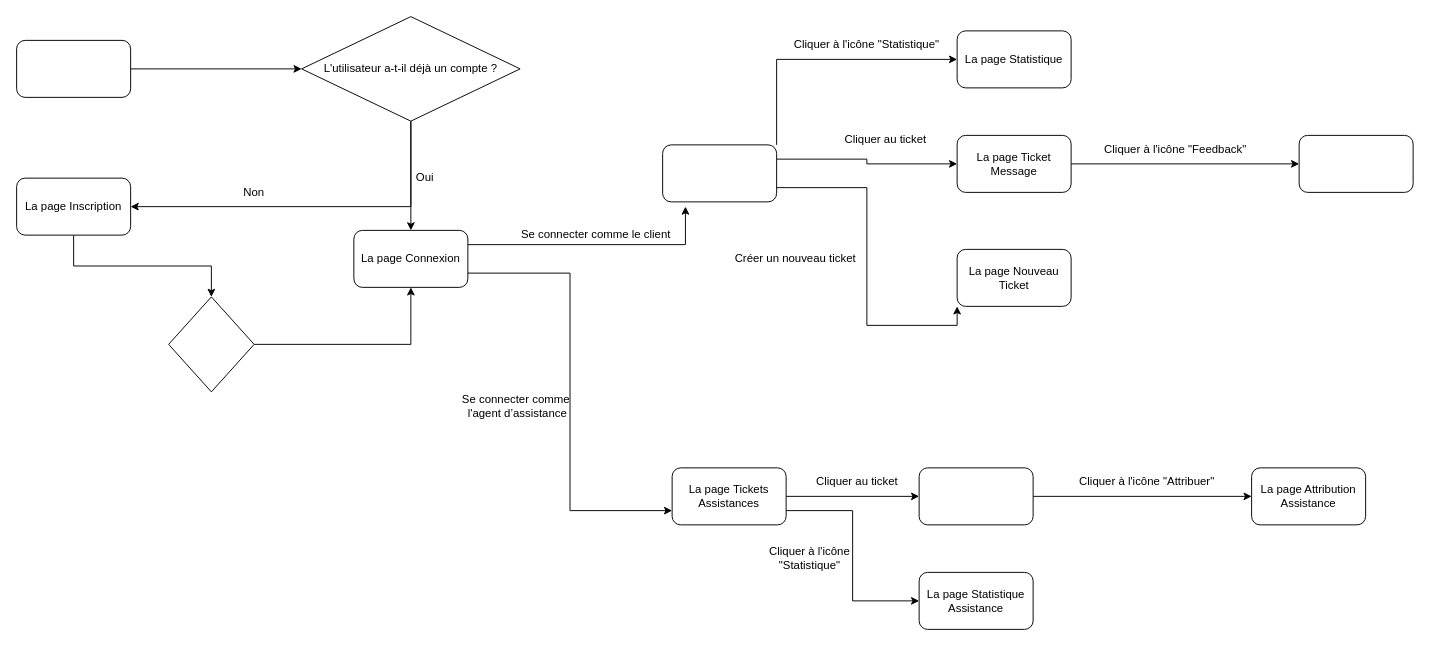
Some shapes in this 1430 by 646 pixel diagram are drawn without their labels. Each missing label, with the centre of its shape:
"Création la compte" belongs at point 211,344.
"La page d'accuei" belongs at point 73,68.
"La page Feedback" belongs at point 1355,163.
"La page Mes tickets" belongs at point 719,173.
"La page Message Assistance" belongs at point 975,496.
